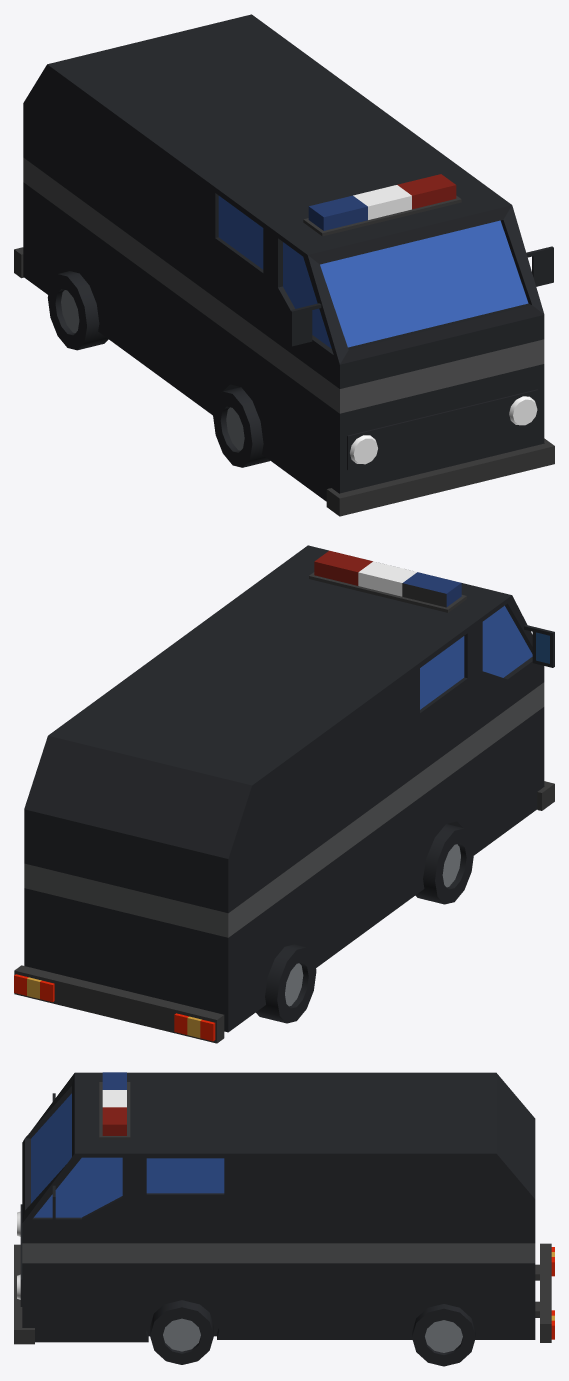
The model's file is PoliceCar_2.fbx.
The picture shows the model from 3 angles, top to bottom: view 1: azimuth 30°, elevation 25°; view 2: azimuth 150°, elevation 25°; view 3: azimuth 270°, elevation 25°; orthographic projection. The views are drawn at different scales.
Parts seen in each view (by area): view 1: PoliceCar_2; view 2: PoliceCar_2; view 3: PoliceCar_2.
Boxes of the visible parts, left/top/right/bottom form: PoliceCar_2: left=14, top=14, right=554, bottom=516; PoliceCar_2: left=14, top=545, right=554, bottom=1043; PoliceCar_2: left=14, top=1072, right=554, bottom=1366.
Size of the model in its own units: 222 by 221 by 489.
